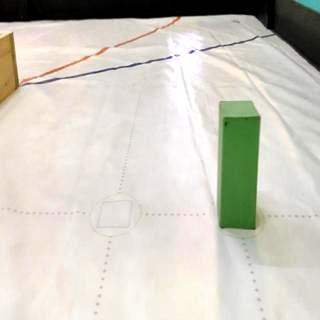greenbox: (218, 100, 262, 230)
